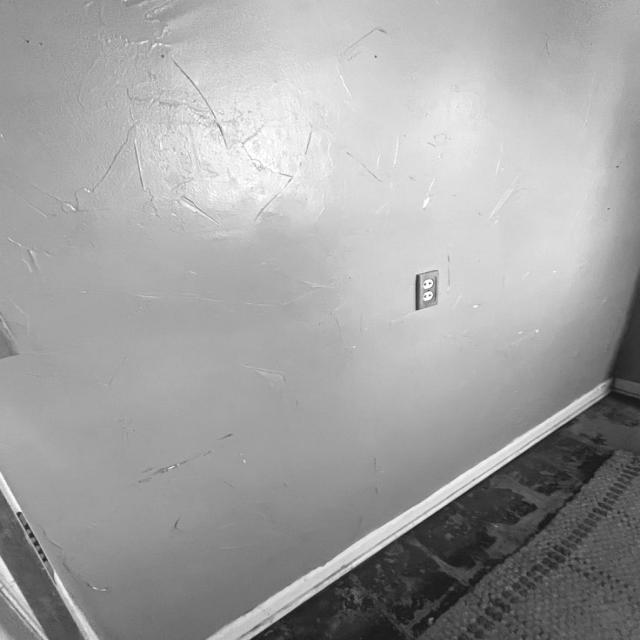trowels marks: (3, 0, 546, 422), (195, 503, 290, 572)
